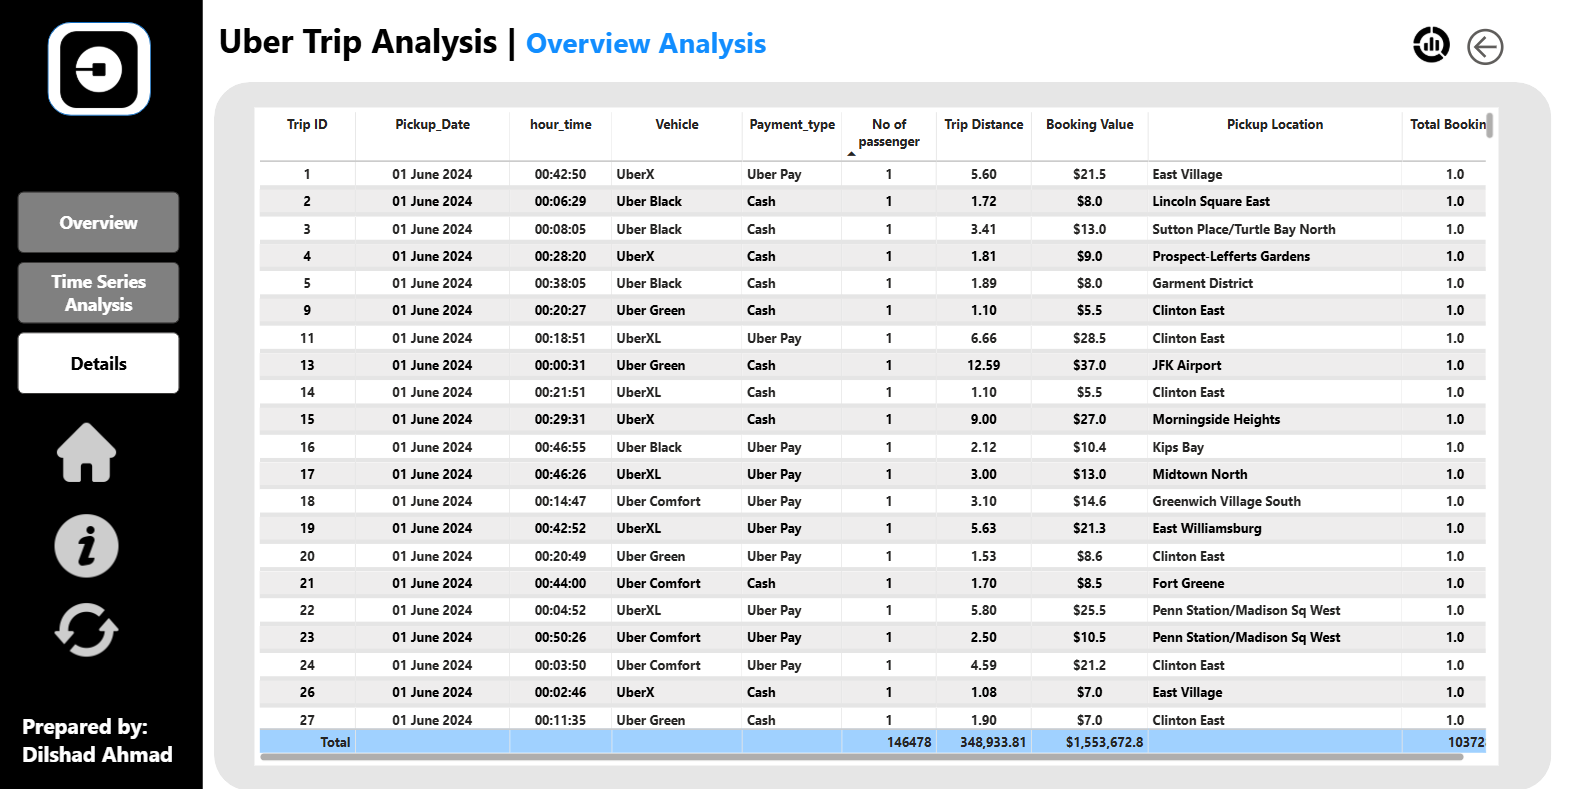

The page's visual inventory and layout, read from the dashboard file:
{"tool":"powerbi","page":{"name":"Details","canvas":[1800,900],"ordinal":2},"visuals":[{"type":"textbox","box":[279.5,17.7,645.6,77.7],"z":0},{"type":"shape","box":[279.5,95.4,1519.7,805.3],"z":1000},{"type":"tableEx","fields":{"Values":["Trip Details.Trip ID","Trip Details.Pickup_Date","Trip Details.hourtime","Trip Details.Vehicle","Trip Details.Payment_type","Sum(Trip Details.passenger_count)","Trip Details.Total Trip Distance Measure","Trip Details.Total Booking Value","Location Table.Location","Trip Details.Total Bookings"]},"box":[326.1,124.2,1413.2,747.7],"z":2000},{"type":"actionButton","box":[1697.2,28.8,82.1,53.2],"z":3000},{"type":"image","box":[1630.7,26.6,64.3,51],"z":4000},{"type":"shape","box":[33.3,0,233,900.7],"z":5000},{"type":"group","id":"g1","title":"Group 1","box":[91,26.6,117.6,106.5],"z":6000},{"type":"pageNavigator","box":[55.5,219.6,184.1,230.7],"z":7000},{"type":"image","box":[91,581.3,88.7,82.1],"z":8000},{"type":"image","box":[91,477,88.7,77.7],"z":9000},{"type":"image","box":[91,676.7,88.7,82.1],"z":10000},{"type":"textbox","box":[55.6,804.2,183.1,74.2],"z":11000},{"type":"shape","box":[91,26.6,117.6,106.5],"z":33000,"group":"g1"},{"type":"image","box":[95.4,31,106.5,97.6],"z":34000,"group":"g1"}]}

Visuals, with their boxes in screenshot pixels (x1, y1, x2, y2), scaled from the page's 1800x900 canvas onto the 1569x789 screenshot:
textbox: bbox=(244, 16, 806, 84)
shape: bbox=(244, 84, 1568, 788)
tableEx - Trip Details.Trip ID x Trip Details.Pickup_Date: bbox=(284, 109, 1516, 764)
actionButton: bbox=(1479, 25, 1551, 72)
image: bbox=(1421, 23, 1477, 68)
shape: bbox=(29, 0, 232, 788)
"Group 1" group: bbox=(79, 23, 182, 117)
pageNavigator: bbox=(48, 193, 209, 395)
image: bbox=(79, 510, 157, 582)
image: bbox=(79, 418, 157, 486)
image: bbox=(79, 593, 157, 665)
textbox: bbox=(48, 705, 208, 770)
shape: bbox=(79, 23, 182, 117)
image: bbox=(83, 27, 176, 113)
